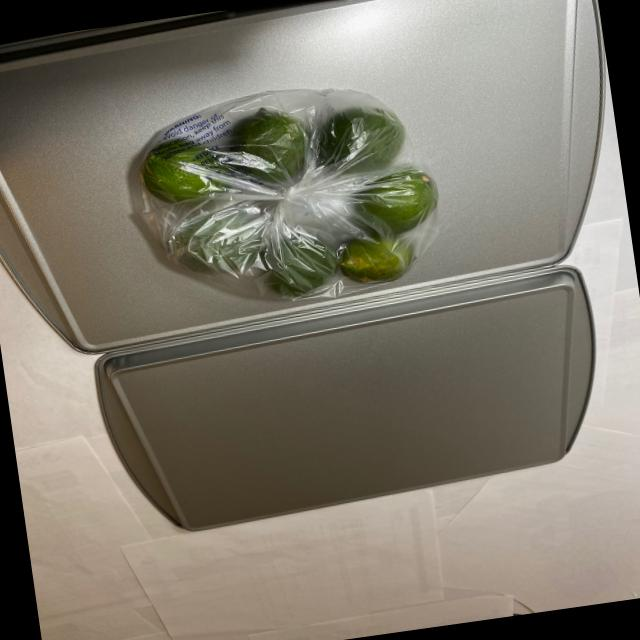lemon: (140, 95, 444, 316)
